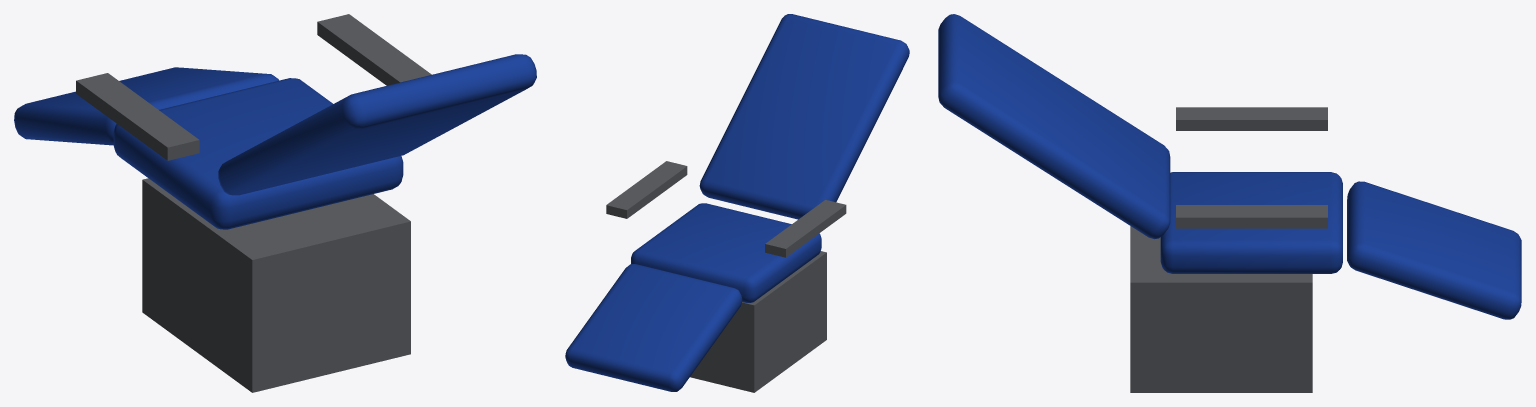
The model's file is hospital.treatment.chair.glb.
The picture shows the model from 3 angles, left to right: view 1: azimuth 30°, elevation 25°; view 2: azimuth 150°, elevation 25°; view 3: azimuth 270°, elevation 25°; orthographic projection. The views are drawn at different scales.
Parts seen in each view (by area): view 1: main__plastic_grey, main__plastic_blue; view 2: main__plastic_blue, main__plastic_grey; view 3: main__plastic_blue, main__plastic_grey.
Boxes of the visible parts, left/top/right/bottom form: main__plastic_grey: left=76, top=14, right=431, bottom=392; main__plastic_blue: left=14, top=54, right=536, bottom=229; main__plastic_blue: left=565, top=14, right=909, bottom=391; main__plastic_grey: left=606, top=161, right=846, bottom=392; main__plastic_blue: left=938, top=14, right=1521, bottom=319; main__plastic_grey: left=1130, top=107, right=1327, bottom=392.
Bounding box in the file's own units: 0.86 × 1.13 × 1.92.
